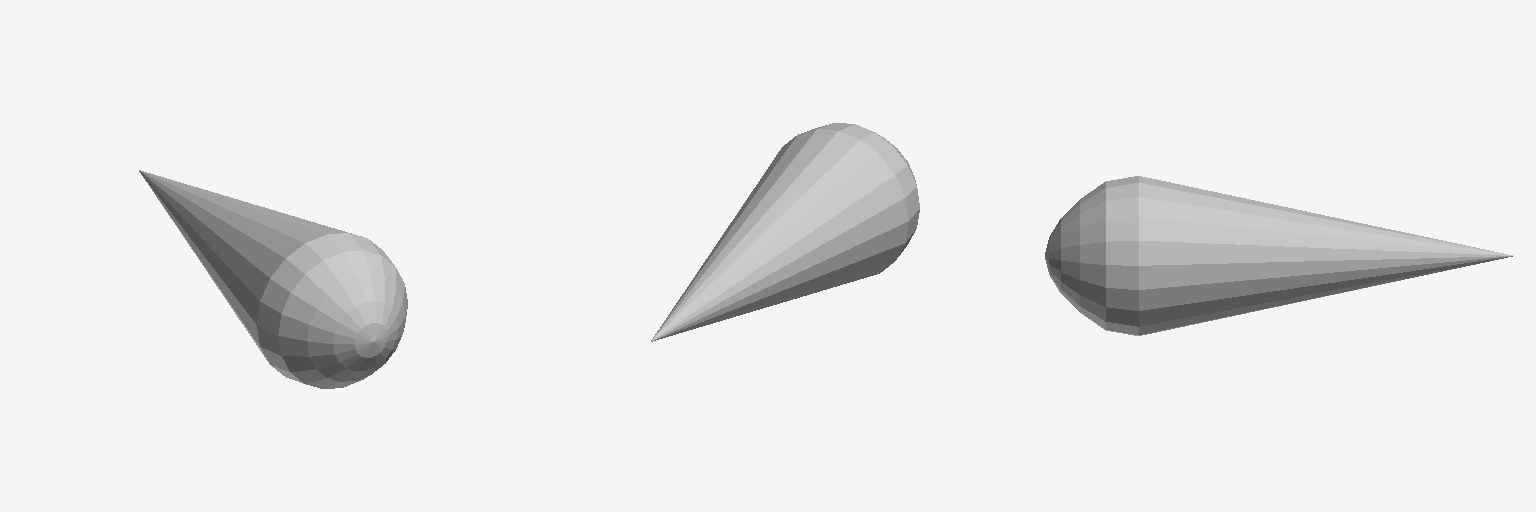
Rendered from blast.obj.
3 views of the same model, side by side, from view 1: azimuth 30°, elevation 25°; view 2: azimuth 150°, elevation 25°; view 3: azimuth 270°, elevation 25° (orthographic).
Visible parts, largest first — view 1: pCone1; view 2: pCone1; view 3: pCone1.
Part boxes in pixels (bbox=[...]): pCone1: bbox=[139, 170, 407, 388]; pCone1: bbox=[651, 123, 919, 341]; pCone1: bbox=[1045, 176, 1512, 335].
Bounding box in the file's own units: 0.4421 × 0.4421 × 1.29.